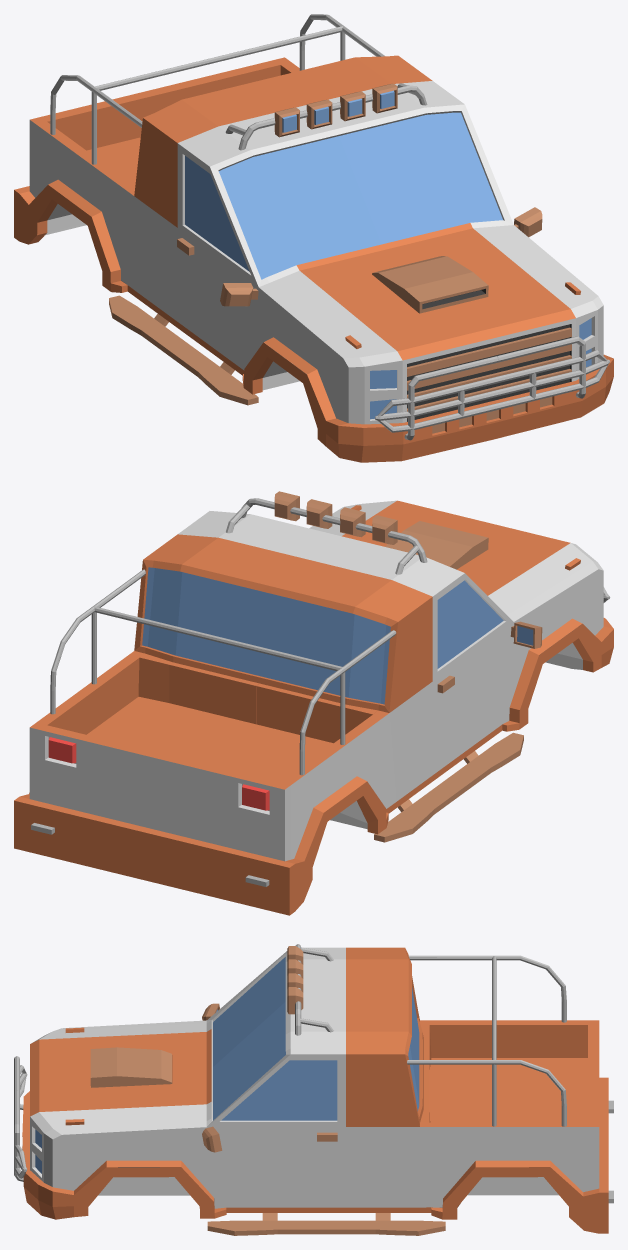
File: Jeep.fbx
3 renders of one model, top to bottom at view 1: azimuth 30°, elevation 25°; view 2: azimuth 150°, elevation 25°; view 3: azimuth 270°, elevation 25°, orthographic. The views are drawn at different scales.
Visible parts, largest first — view 1: Karosserie; view 2: Karosserie; view 3: Karosserie.
Boxes of the visible parts, left/top/right/bottom form: Karosserie: left=14, top=14, right=613, bottom=462; Karosserie: left=14, top=491, right=613, bottom=915; Karosserie: left=14, top=944, right=613, bottom=1235.
Bounding box in the file's own units: 6.24 × 4.49 × 11.88.
